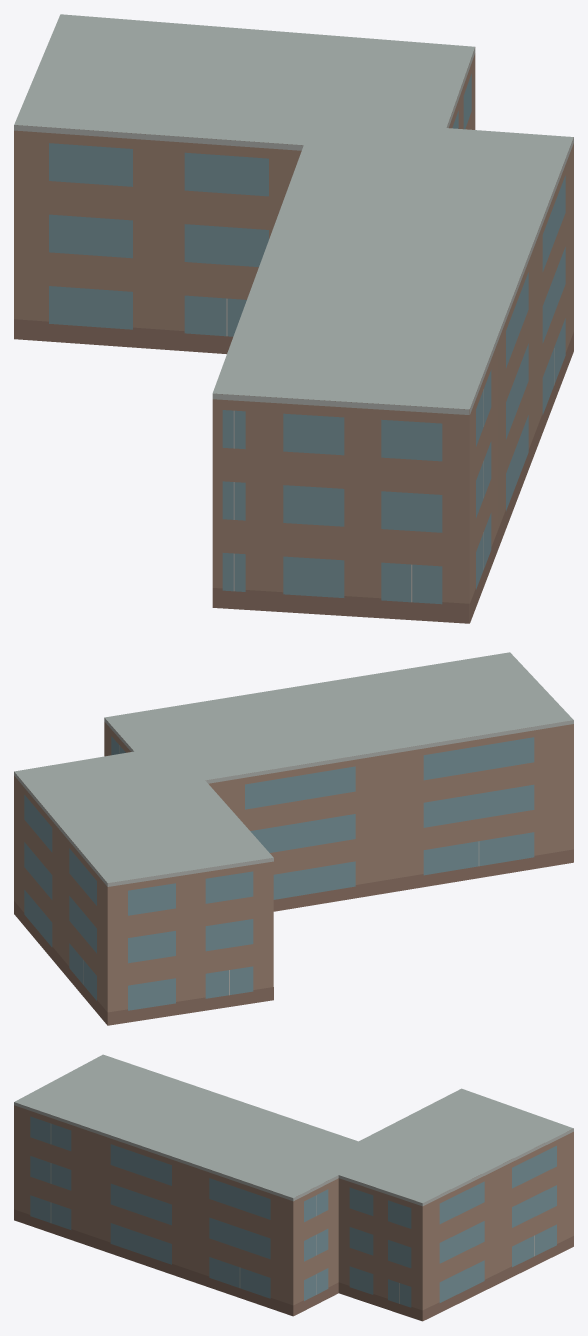
File: survey-upis-32737853.glb
3 views of the same model, one above another, from view 1: azimuth 30°, elevation 25°; view 2: azimuth 150°, elevation 25°; view 3: azimuth 270°, elevation 25° (orthographic). The views are drawn at different scales.
Parts seen in each view (by area): view 1: survey-upis-32737853.tmp; view 2: survey-upis-32737853.tmp; view 3: survey-upis-32737853.tmp.
Boxes of the visible parts, x1,y1,x2,y2 form: survey-upis-32737853.tmp: (14, 14, 573, 623); survey-upis-32737853.tmp: (14, 652, 573, 1025); survey-upis-32737853.tmp: (14, 1054, 573, 1321).
Size of the model in its own units: 24.69 by 9.15 by 39.27.
